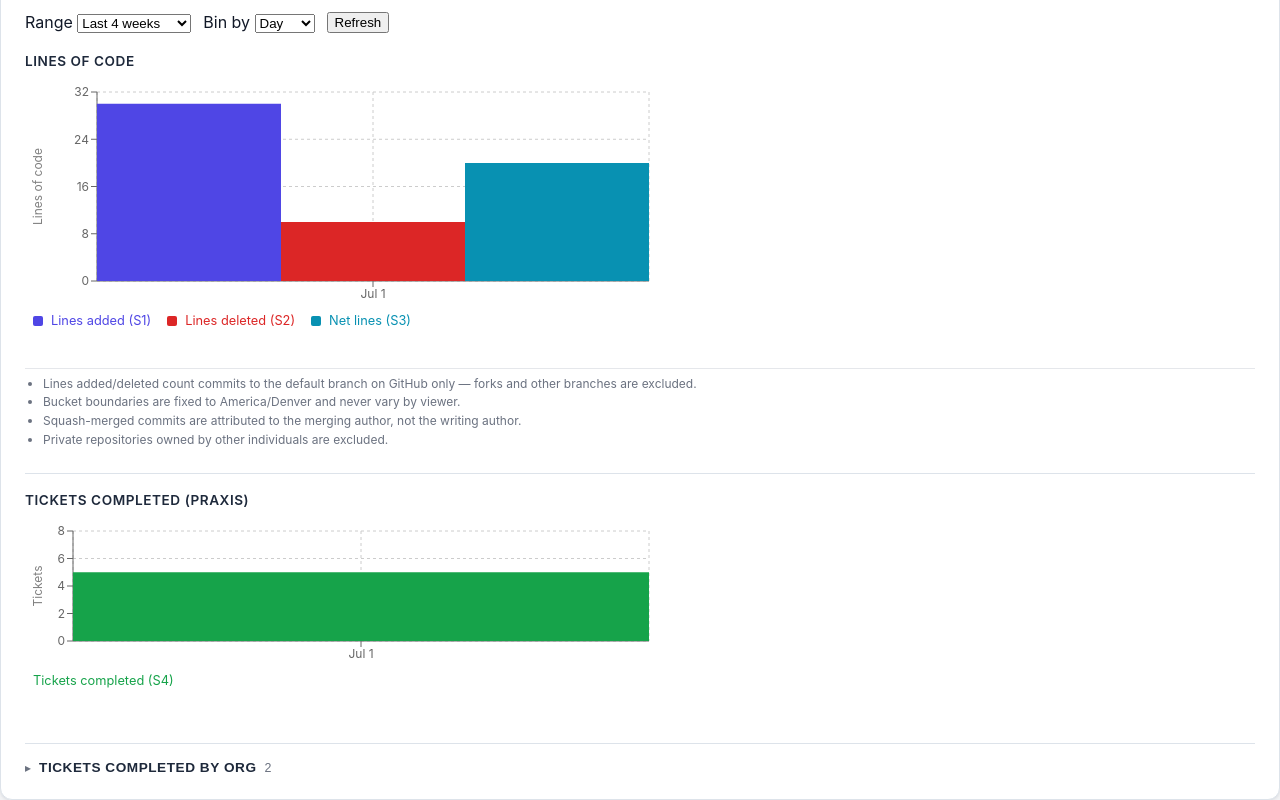
Test: ProductivityPanel › renders one collapsible small chart per org in series_by_org, titled by org name
(page scrolled)
Expected: the element with test id "productivity-by-org" is shown, [25,743,1255,775]
What coordinates should you click on to do the following:
click the button with test id "productivity-by-org-toggle"
I would click on:
 (148, 768)
Its box is [25,760,1255,775].
(page scrolled)
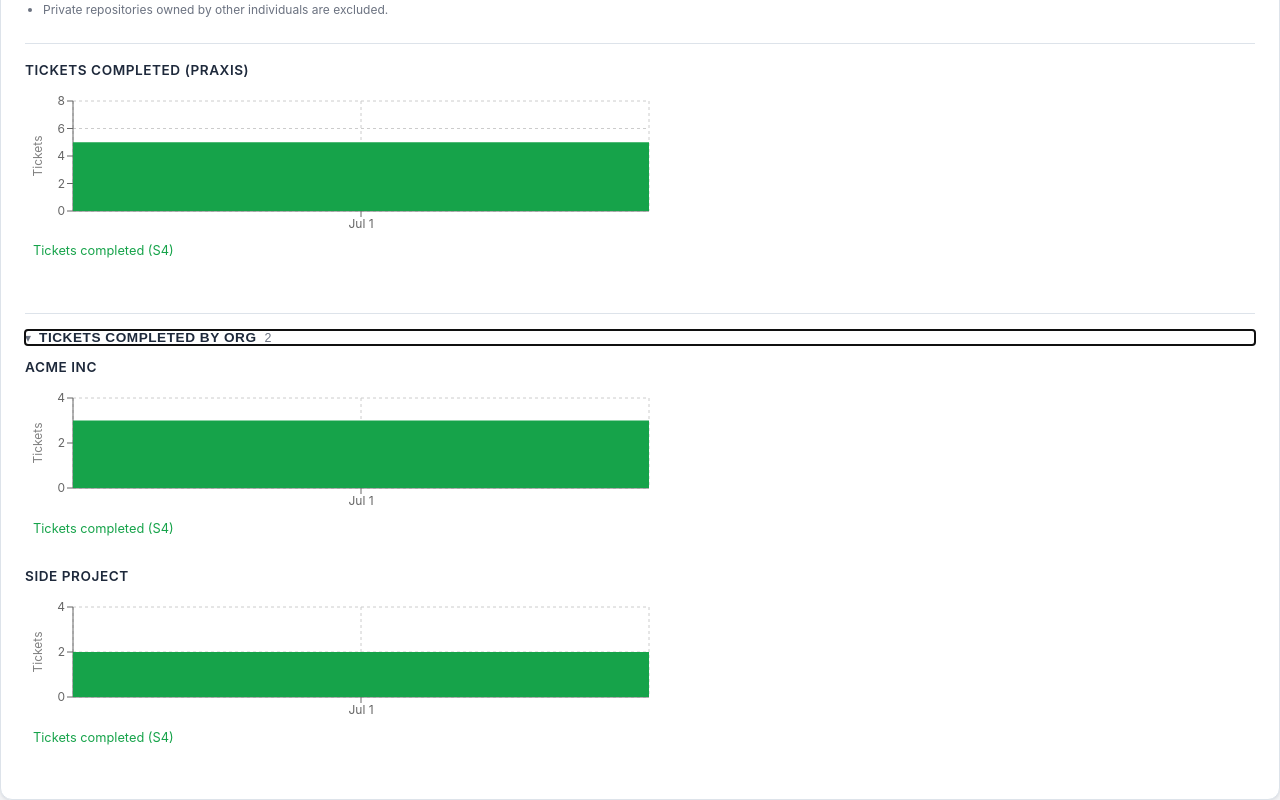
Now the heading "Acme Inc" is shown, box [25,357,97,378]
Now the heading "Side Project" is shown, box [25,566,129,588]
